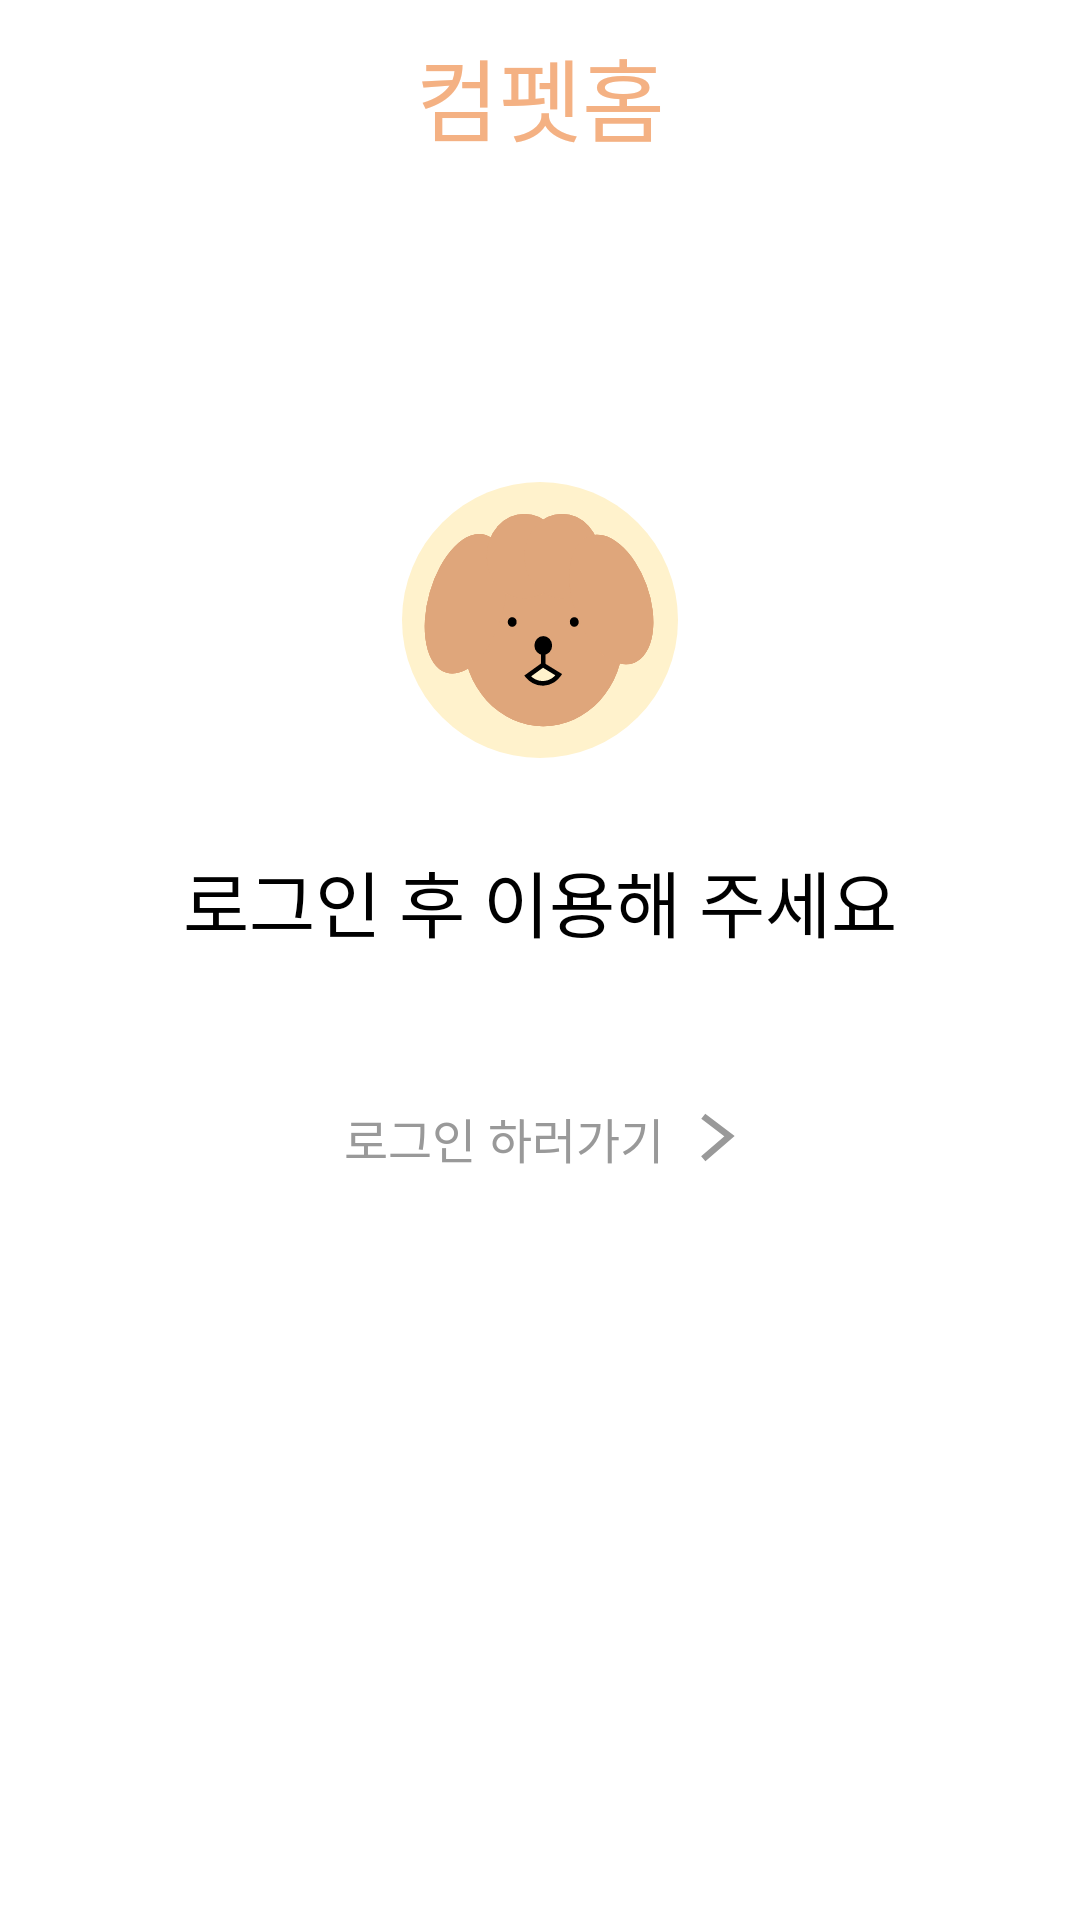

Icon click points for this 1080w x 1920h phone screenshot, format (x,y):
next: (717,1137)
profile: (540,620)
